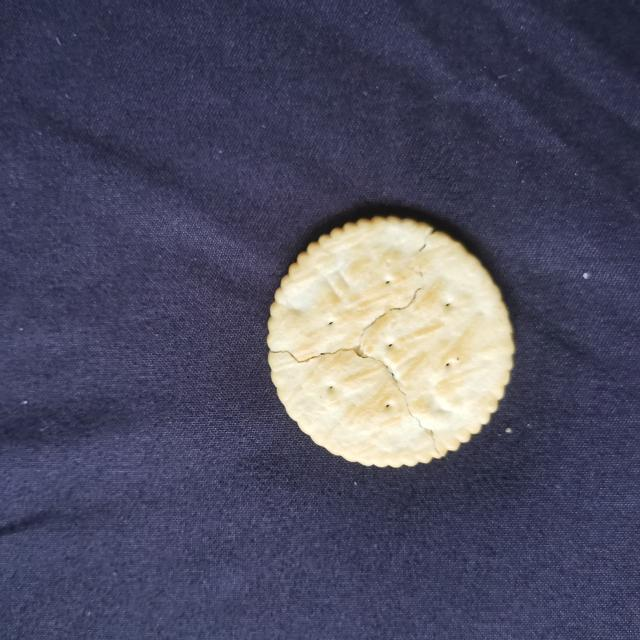Fracture: (265, 225, 464, 465)
